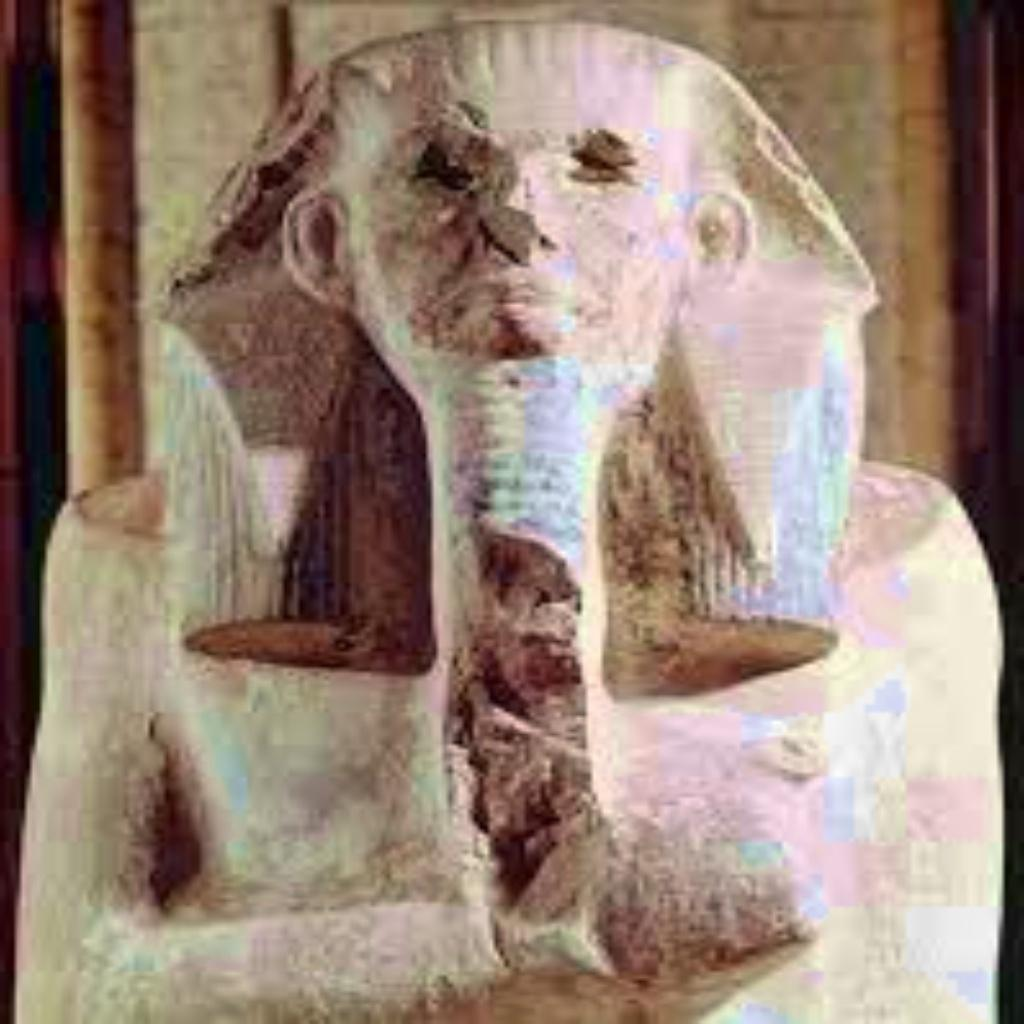Statue of King Zoser: (0, 8, 1009, 1020)
